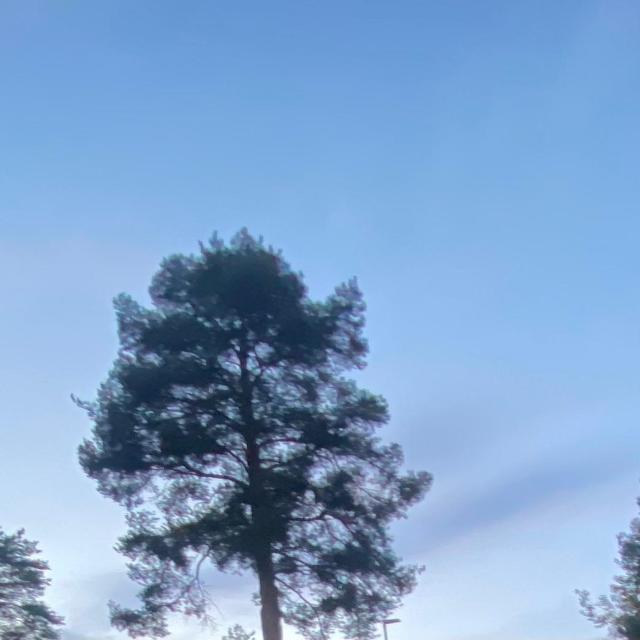pine: (59, 210, 449, 640)
